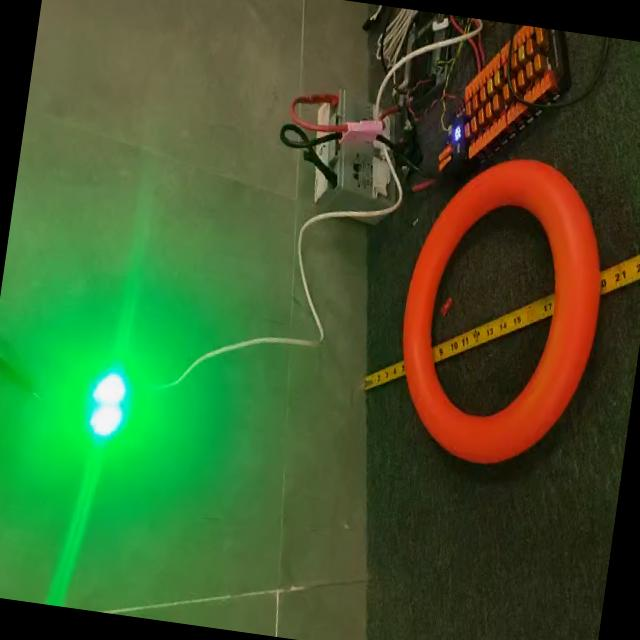note: (382, 144, 621, 480)
